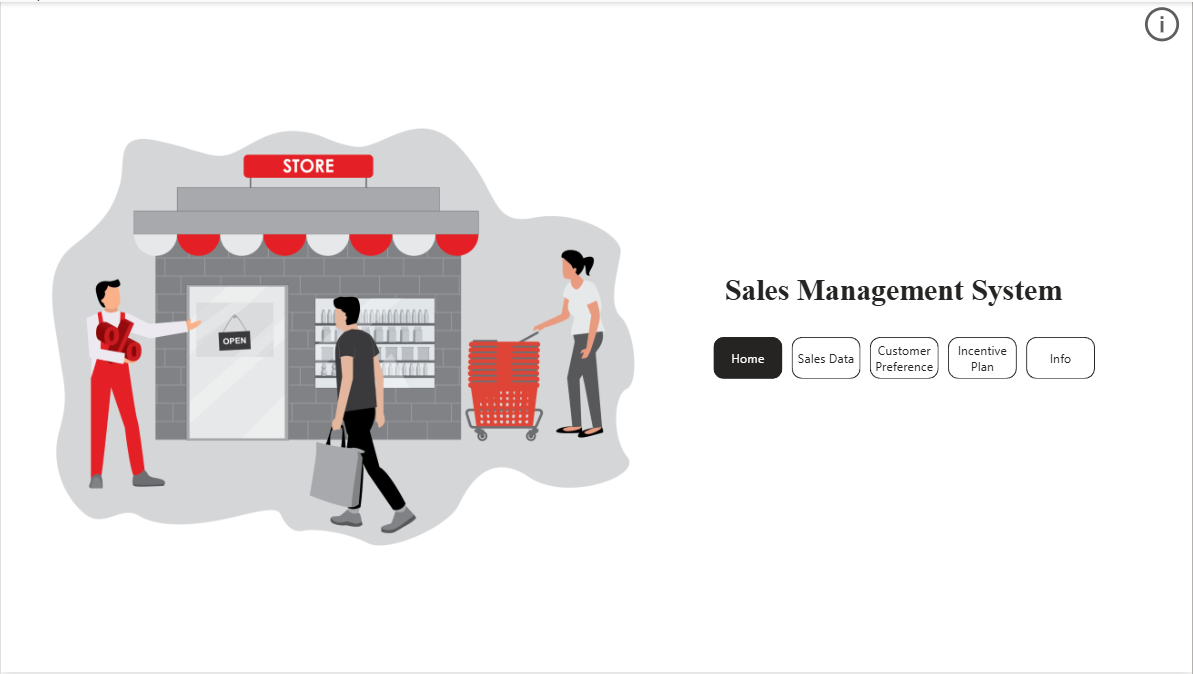

This screenshot's page, from the dashboard's own definition file:
{"tool":"powerbi","page":{"name":"Home","canvas":[1280,720],"ordinal":0},"visuals":[{"type":"image","box":[9.7,0,713.9,719.8],"z":0},{"type":"textbox","box":[712.8,285.5,491.5,74.7],"z":1000},{"type":"pageNavigator","box":[765.7,360,414.4,45.7],"z":2000},{"type":"actionButton","box":[1223.5,0,56.5,47.9],"z":3000}]}

Visuals, with their boxes in screenshot pixels (x1, y1, x2, y2), scaled from the page's 1280x720 canvas onto the 1193x674 screenshot:
image: Rect(9, 0, 674, 673)
textbox: Rect(664, 267, 1122, 337)
pageNavigator: Rect(714, 337, 1100, 380)
actionButton: Rect(1140, 0, 1192, 45)
